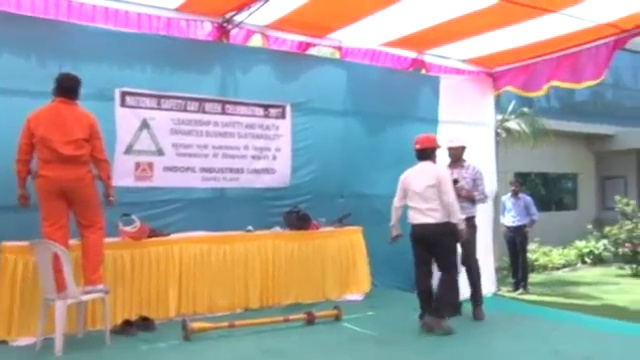helmet: (411, 131, 443, 150), (446, 135, 467, 150)
helmet_off: (52, 72, 83, 102), (506, 176, 525, 198)
helmet_on: (410, 130, 443, 165), (444, 133, 468, 170)
person: (16, 73, 114, 294), (389, 132, 467, 336), (444, 134, 487, 323), (497, 176, 539, 292)
